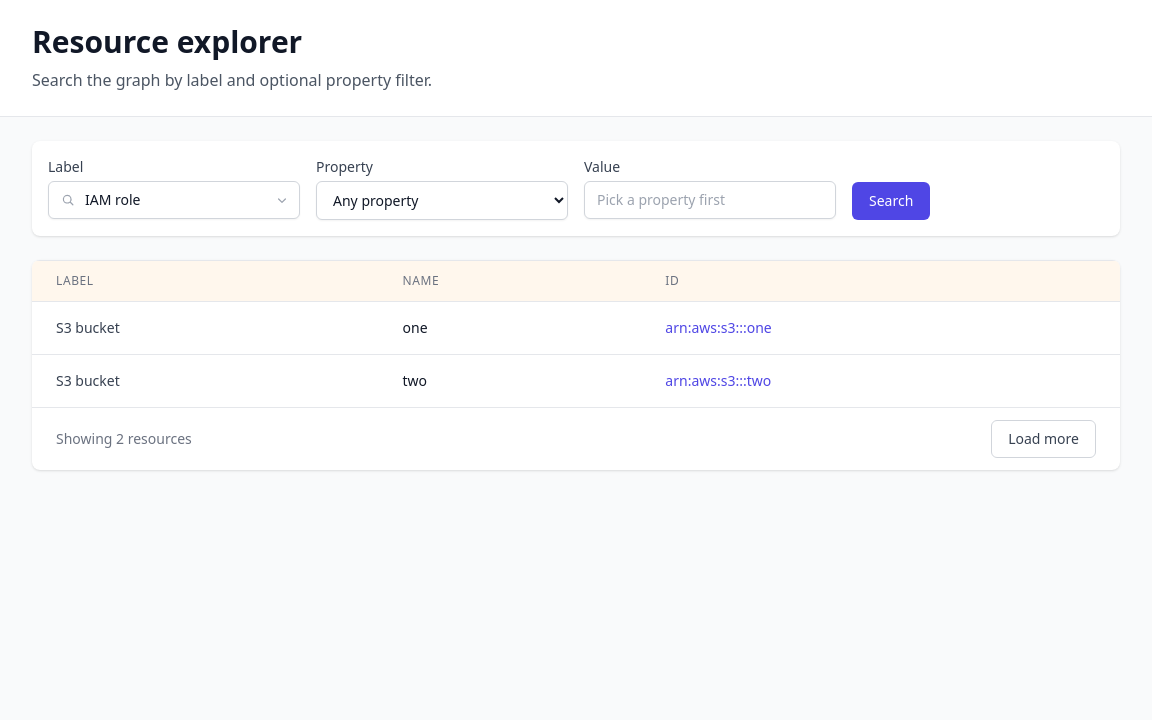
Test: ResourcesPage search › shows how many are loaded and appends the next page on request
Expected: the text "Showing 2 resources" is shown, [56,429,192,449]
What coordinates should you click on to do the following:
click the button "Load more"
I would click on:
 (1044, 439)
Its box is [991,420,1096,458].
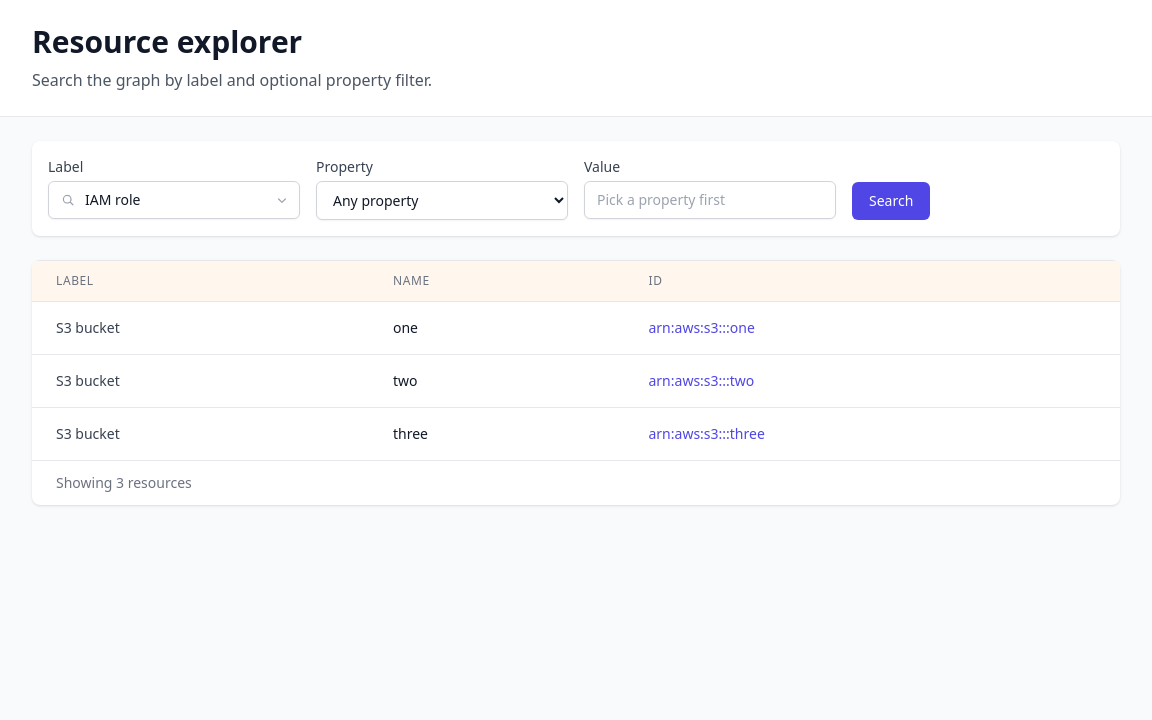
Expected: the text "Showing 3 resources" is shown, [56,473,192,493]
Expected: the text "three" is shown, [369,408,624,460]
Expected: the button "Load more" is gone
